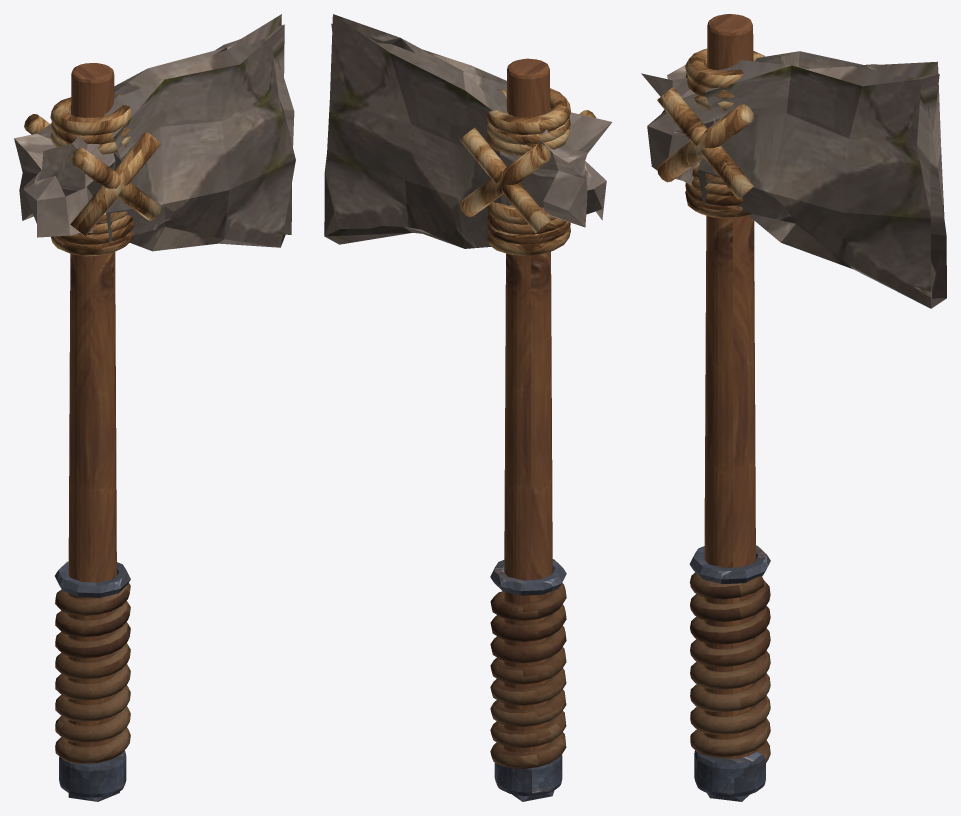
The model's file is axe_stone.glb.
3 views of the same model, side by side, from view 1: azimuth 30°, elevation 25°; view 2: azimuth 150°, elevation 25°; view 3: azimuth 330°, elevation 25° (orthographic). The views are drawn at different scales.
Visible parts, largest first — view 1: model; view 2: model; view 3: model.
Boxes of the visible parts, <box> form: model: <box>14,14,295,801</box>; model: <box>324,14,612,801</box>; model: <box>641,14,946,801</box>.
Size of the model in its own units: 0.2823 by 0.738 by 0.1011.
Materials: 7 (7 with a texture image).
